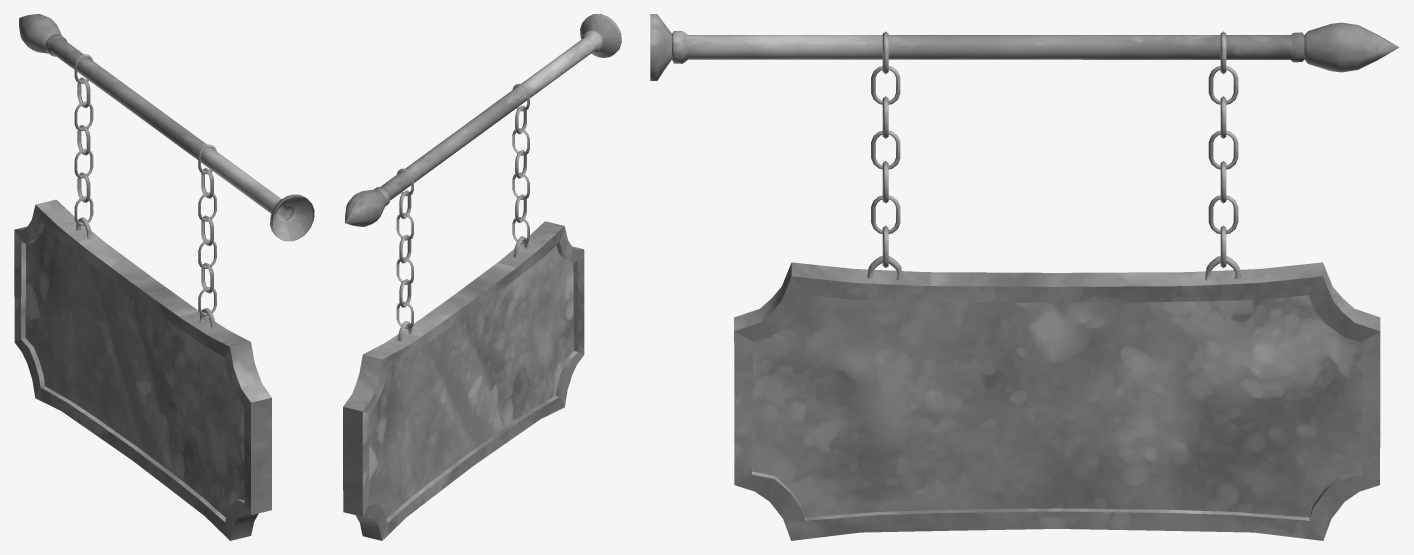
The model's file is SM_Signboard_01b.fbx.
3 renders of one model, left to right at view 1: azimuth 30°, elevation 25°; view 2: azimuth 150°, elevation 25°; view 3: azimuth 270°, elevation 25°, orthographic. The views are drawn at different scales.
Visible parts, largest first — view 1: SM_Signboard_01b_LOD0; view 2: SM_Signboard_01b_LOD0; view 3: SM_Signboard_01b_LOD0.
Part boxes in pixels (x1,y1,x2,y2): SM_Signboard_01b_LOD0: (14,14,314,540); SM_Signboard_01b_LOD0: (343,14,621,540); SM_Signboard_01b_LOD0: (650,14,1399,540).
Bounding box in the file's own units: 12.83 × 145 × 110.
